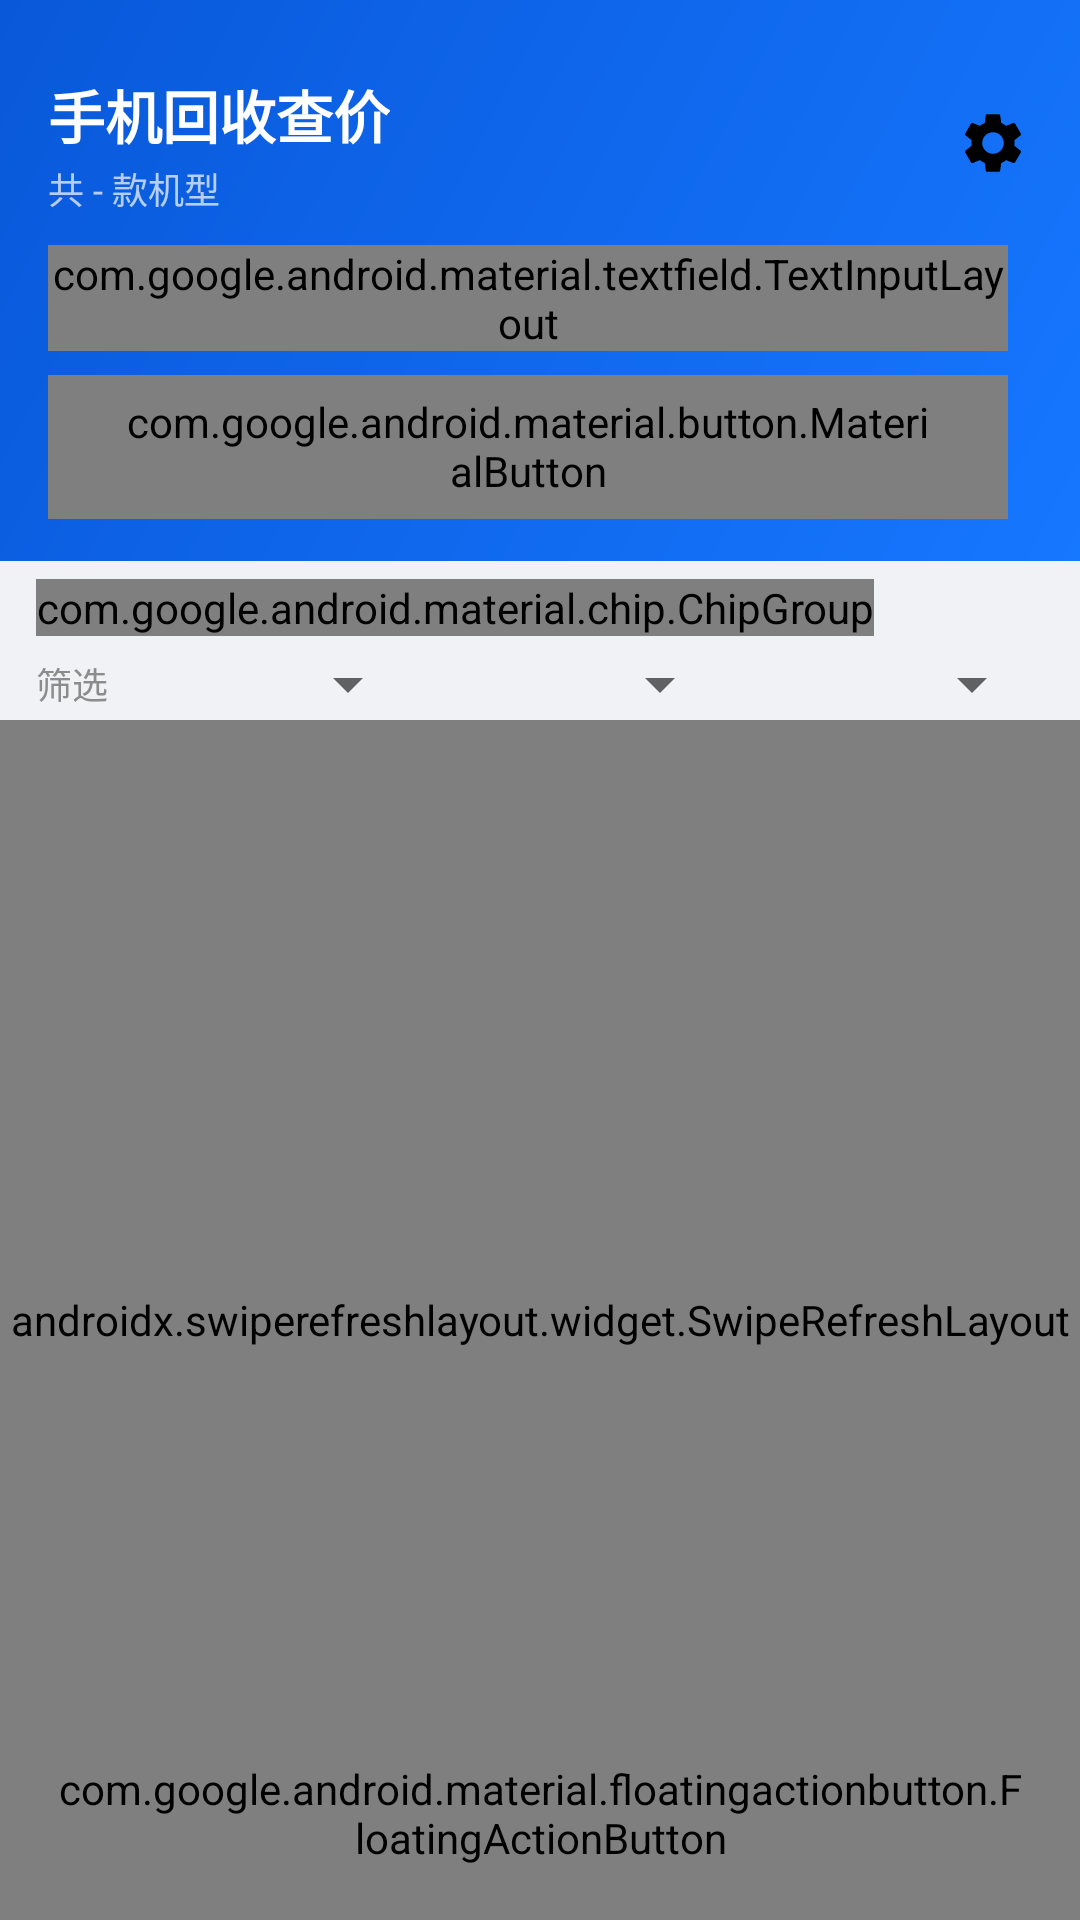

Where icons sit on this 1080 × 1920 app screen, as (x1=x1, y1=y1, x2=x2, y2=y2):
设置: (x1=965, y1=114, x2=1021, y2=172)
